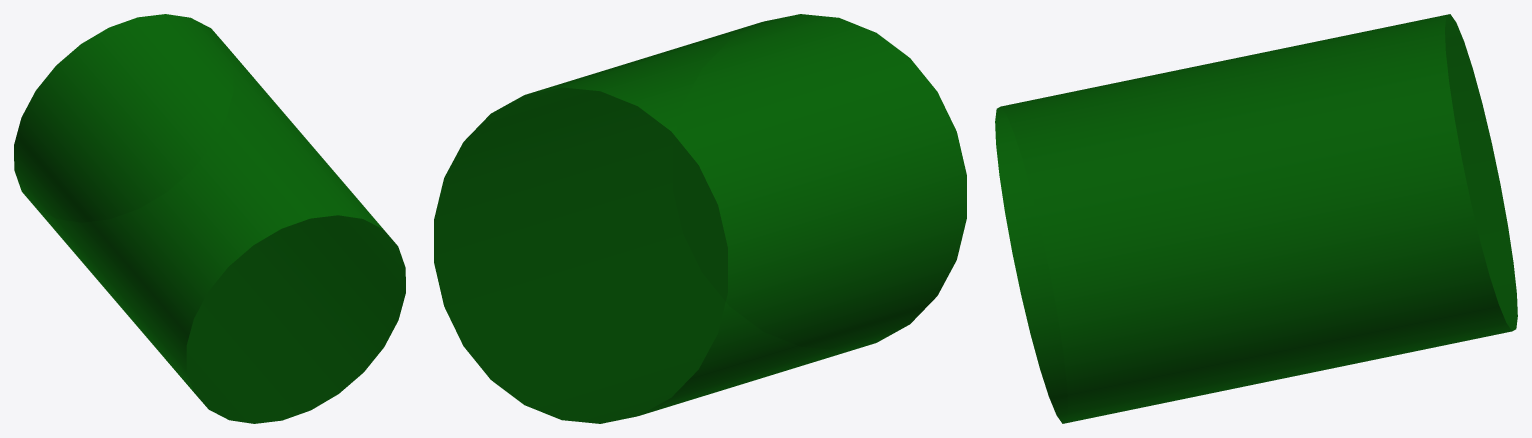
Rendered from Event_195102316_jet_4.fbx.
3 renders of one model, left to right at view 1: azimuth 30°, elevation 25°; view 2: azimuth 150°, elevation 25°; view 3: azimuth 270°, elevation 25°, orthographic. The views are drawn at different scales.
Parts seen in each view (by area): view 1: Model; view 2: Model; view 3: Model.
Part boxes in pixels (x1,y1,x2,y2): Model: (14, 14, 405, 423); Model: (434, 14, 966, 423); Model: (995, 14, 1517, 423).
Bounding box in the file's own units: 0.0404 × 0.0517 × 0.0644.
